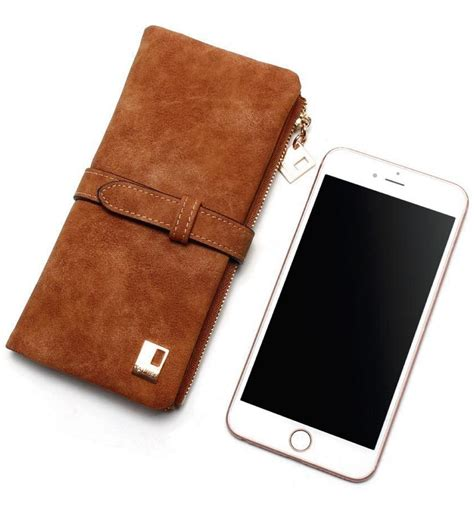gamuza: (5, 25, 302, 414)
